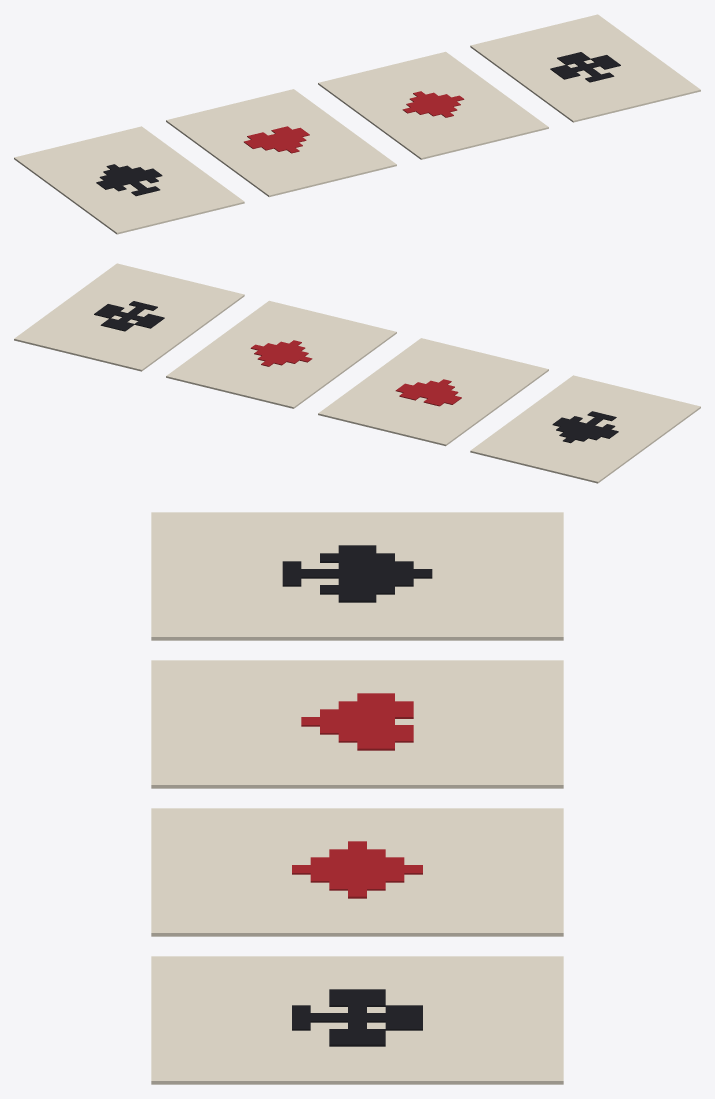
File: playing_card.glb
3 renders of one model, top to bottom at view 1: azimuth 30°, elevation 25°; view 2: azimuth 150°, elevation 25°; view 3: azimuth 270°, elevation 25°, orthographic. The views are drawn at different scales.
Visible parts, largest first — view 1: PlayingCards; view 2: PlayingCards; view 3: PlayingCards.
Boxes of the visible parts, x1,y1,x2,y2 form: PlayingCards: [14, 14, 700, 234]; PlayingCards: [14, 263, 700, 483]; PlayingCards: [151, 512, 563, 1084].
Bounding box in the file's own units: 0.288 × 0.0015 × 0.088.
